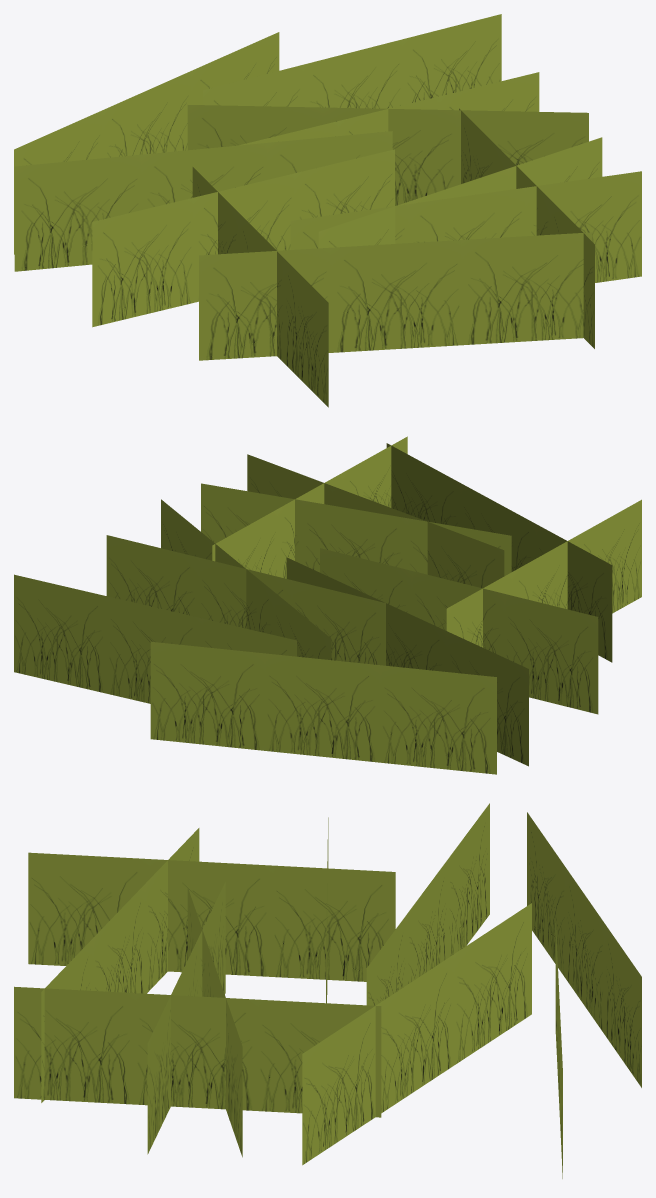
The model's file is Grass.fbx.
The picture shows the model from 3 angles, top to bottom: view 1: azimuth 30°, elevation 25°; view 2: azimuth 150°, elevation 25°; view 3: azimuth 270°, elevation 25°; orthographic projection. The views are drawn at different scales.
Parts seen in each view (by area): view 1: Grass; view 2: Grass; view 3: Grass.
Boxes of the visible parts, x1=… form: Grass: x1=14, y1=14, x2=641, y2=407; Grass: x1=14, y1=436, x2=641, y2=774; Grass: x1=14, y1=803, x2=641, y2=1178.
Bounding box in the file's own units: 404 × 77.9 × 398.
